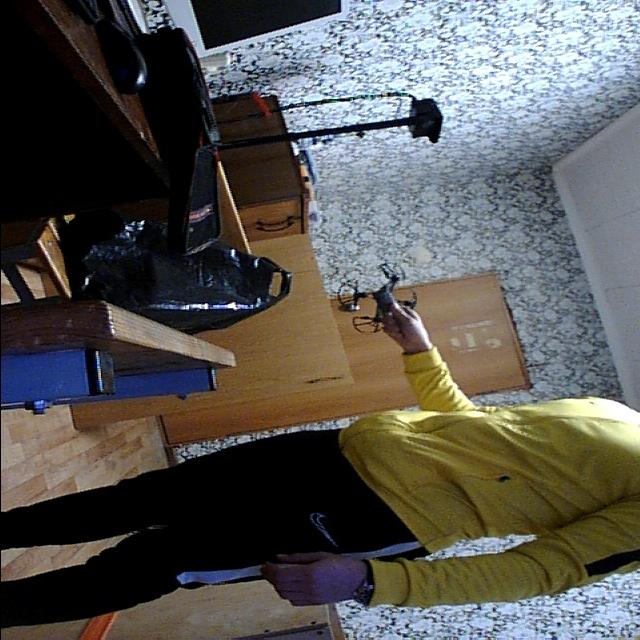drone: (334, 257, 420, 345)
